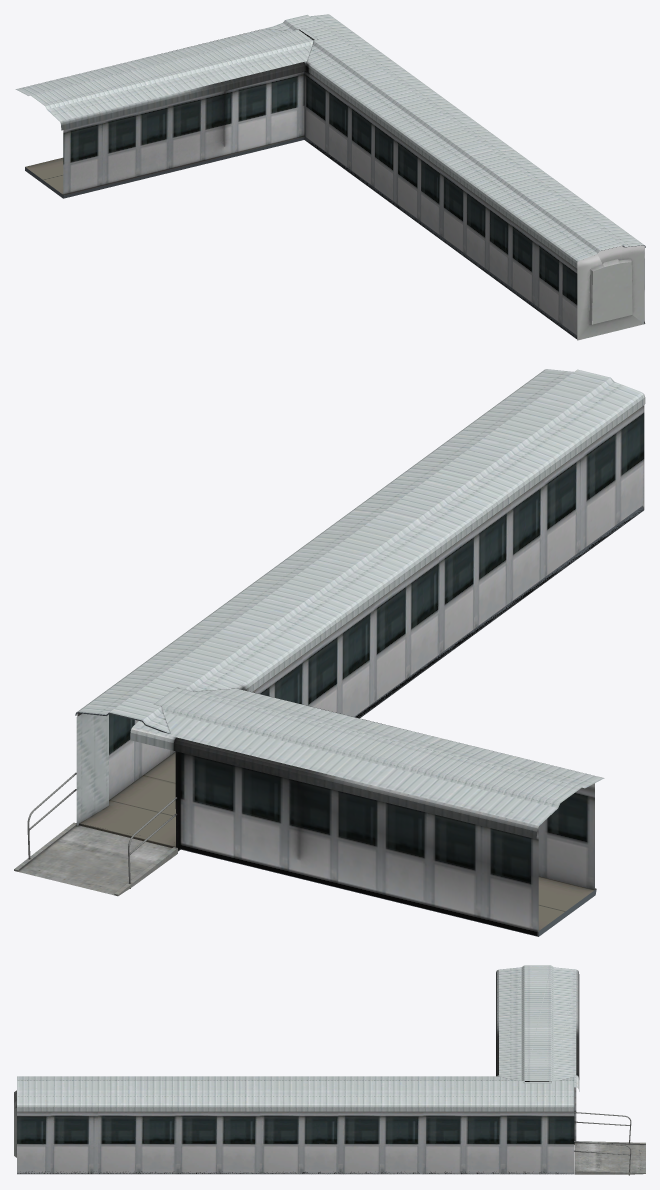
Rendered from MAMUTH_FINGER.gltf.
3 views of the same model, one above another, from view 1: azimuth 30°, elevation 25°; view 2: azimuth 150°, elevation 25°; view 3: azimuth 270°, elevation 25° (orthographic). The views are drawn at different scales.
Visible parts, largest first — view 1: node1; view 2: node1; view 3: node1.
Boxes of the visible parts, x1,y1,x2,y2 form: node1: (15, 14, 645, 340); node1: (14, 369, 645, 936); node1: (14, 965, 645, 1175).
Bounding box in the file's own units: 11.94 × 3.09 × 23.55.
